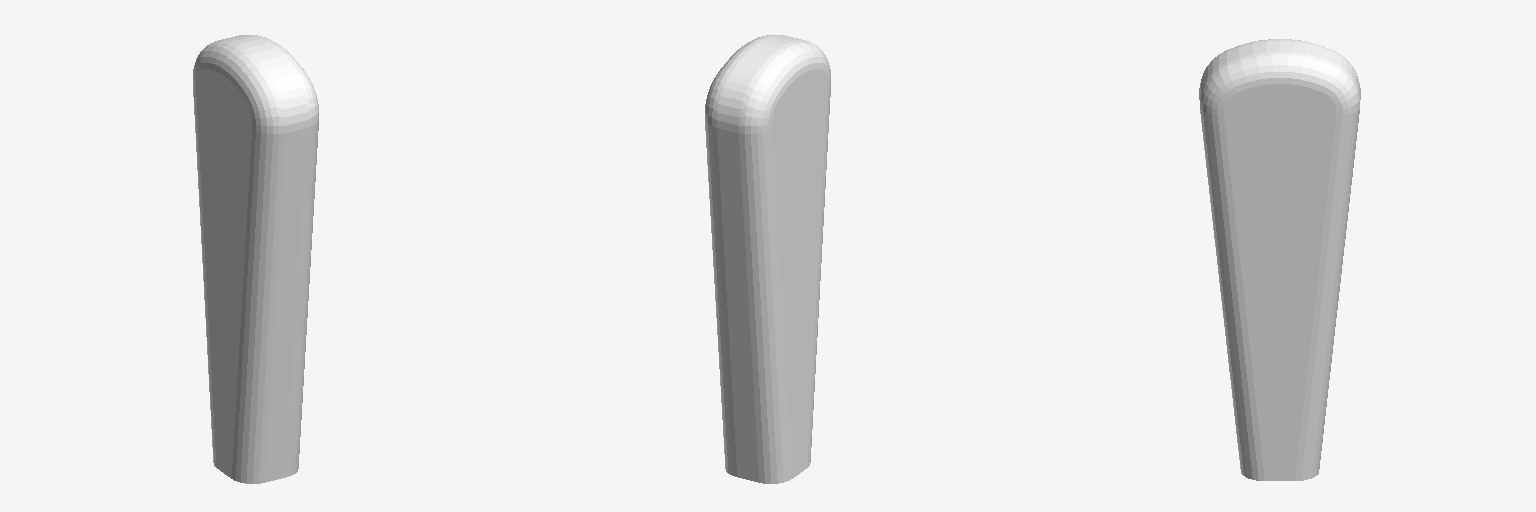
3 renders of one model, left to right at view 1: azimuth 30°, elevation 25°; view 2: azimuth 150°, elevation 25°; view 3: azimuth 270°, elevation 25°, orthographic.
Visible parts, largest first — view 1: Bryła1:3; view 2: Bryła1:3; view 3: Bryła1:3.
Part boxes in pixels (x1,y1,x2,y2): Bryła1:3: (193, 35, 318, 483); Bryła1:3: (705, 35, 830, 483); Bryła1:3: (1199, 39, 1360, 480).
Size of the model in its own units: 76.2 by 479 by 167.